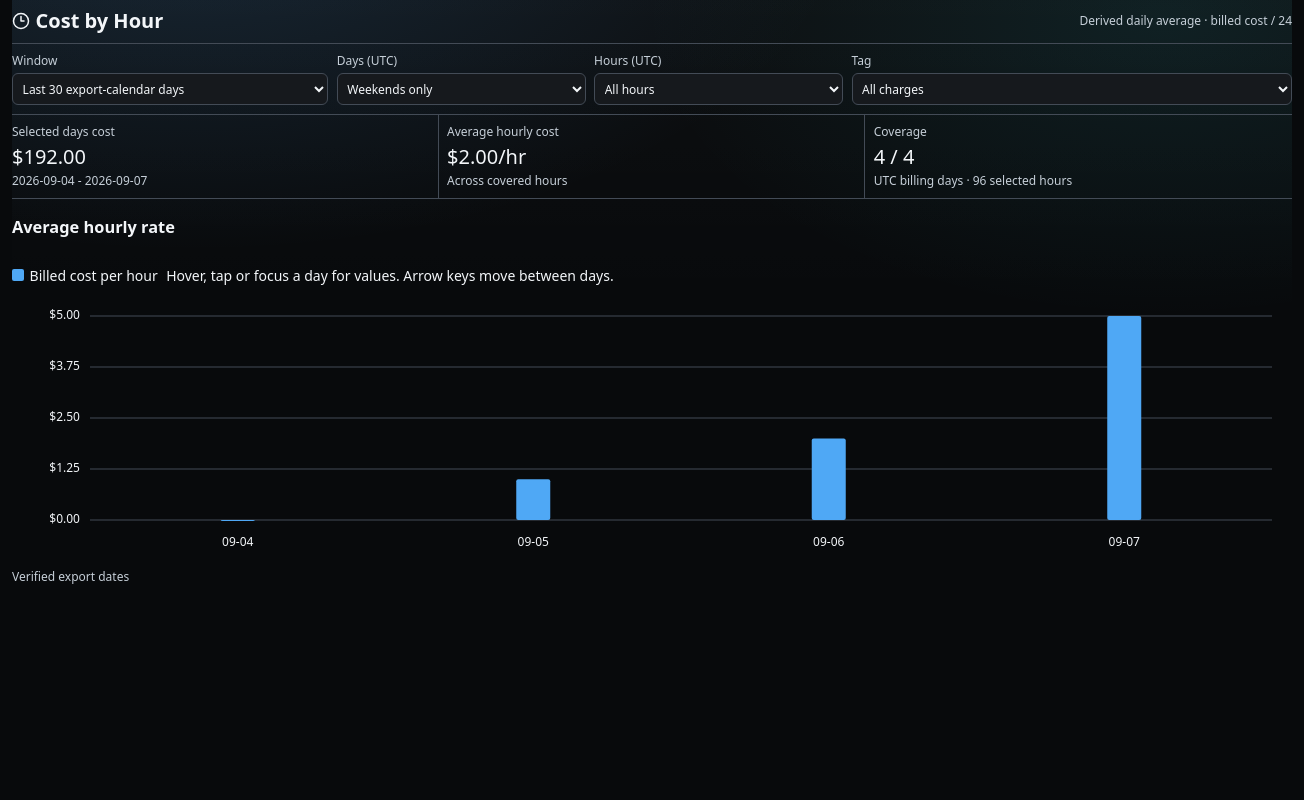
Scenario: shows an unavailable result when business hours and weekend days do not overlap
The width and height of the screenshot is (1304, 800).
Select "Weekends only" in the dropdown labelled "Days (UTC)". click: (461, 89)
box: 337,73 -> 586,105
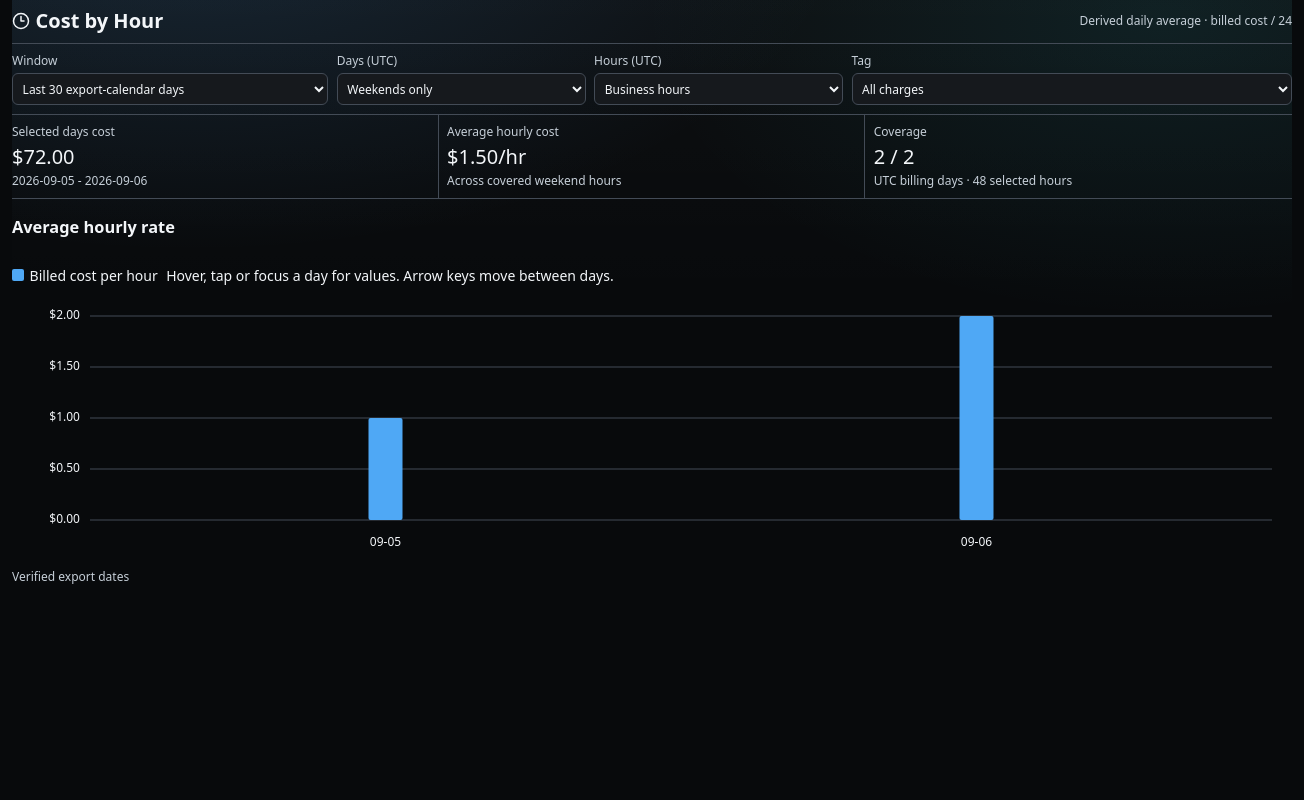
Select "Business hours" in the dropdown labelled "Hours (UTC)". click: (719, 89)
box: 594,73 -> 843,105
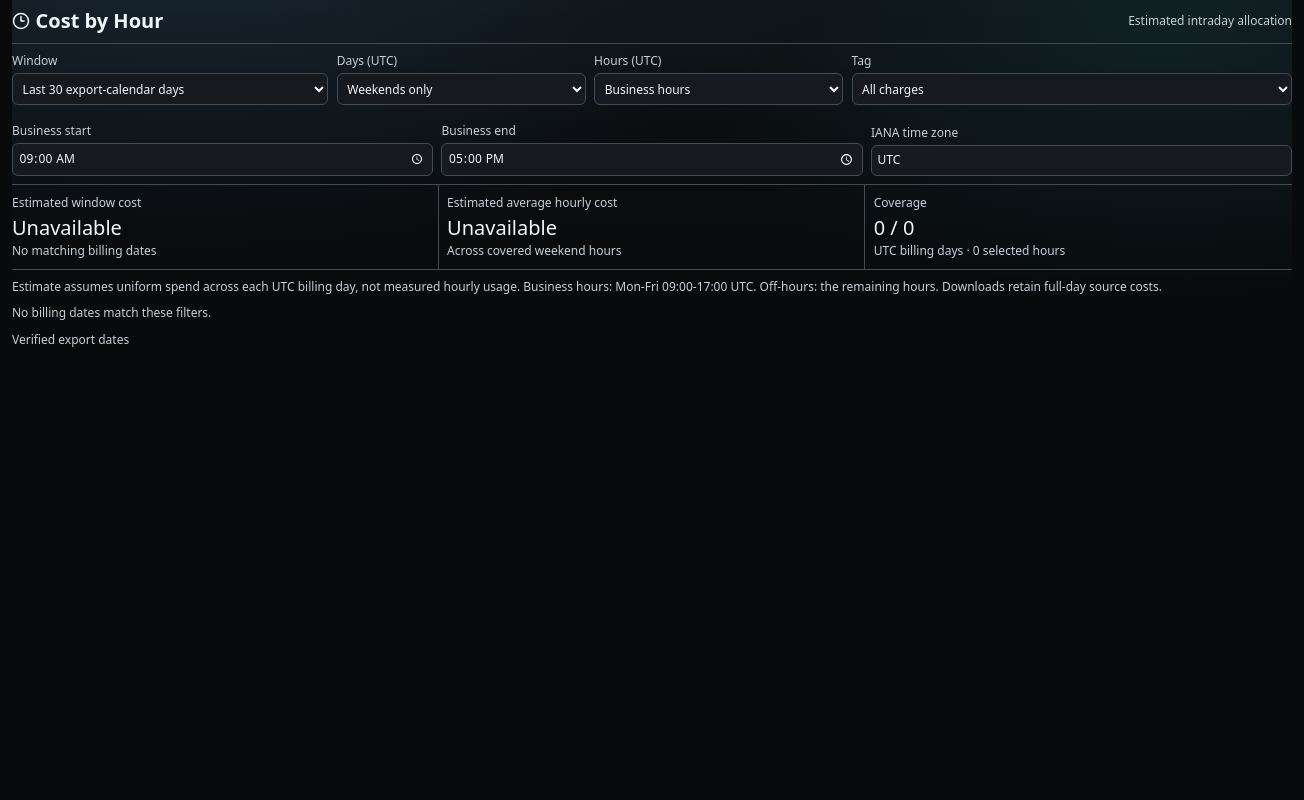
Check: the text "Unavailable" below "Estimated window cost" is shown, box 12,214 -> 122,240
Check: the text "No billing dates match these filters." is shown, box 12,304 -> 211,322
